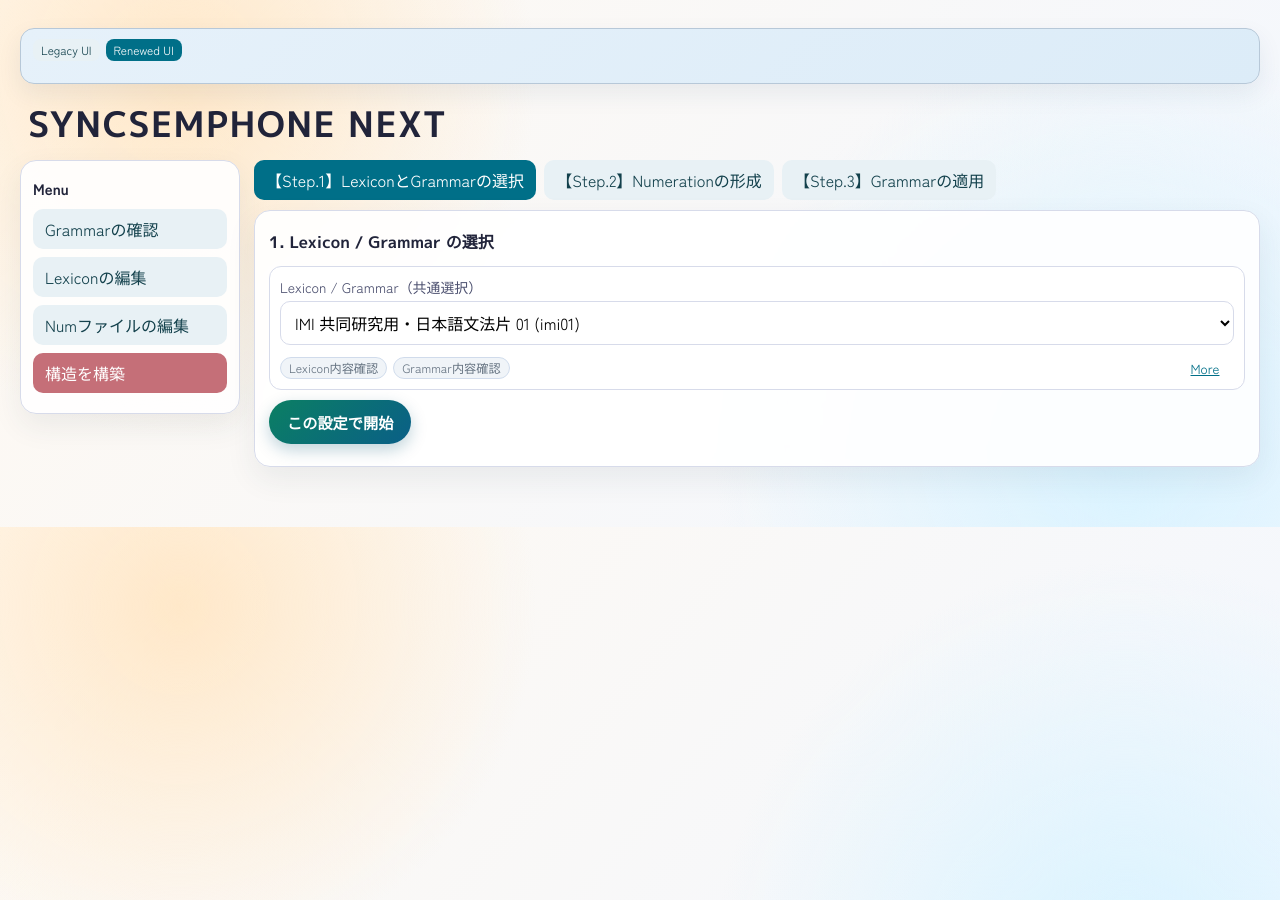
Scenario: App › switches Step1 numeration entry modes
Click the button "この設定で開始": (340, 422) top-left (269, 400), bottom-right (411, 444)
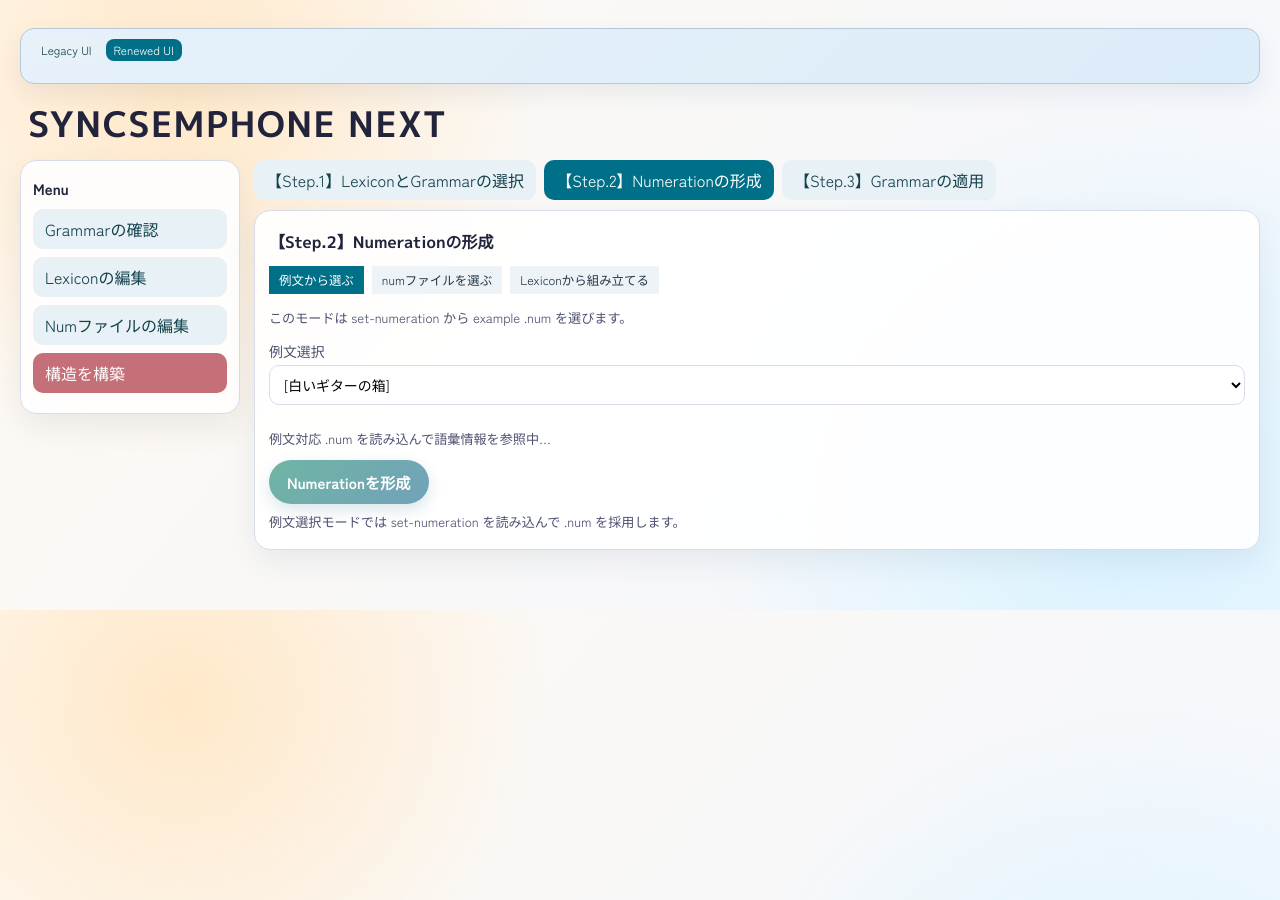
Click the button "numファイルを選ぶ": (437, 280) top-left (372, 266), bottom-right (502, 294)
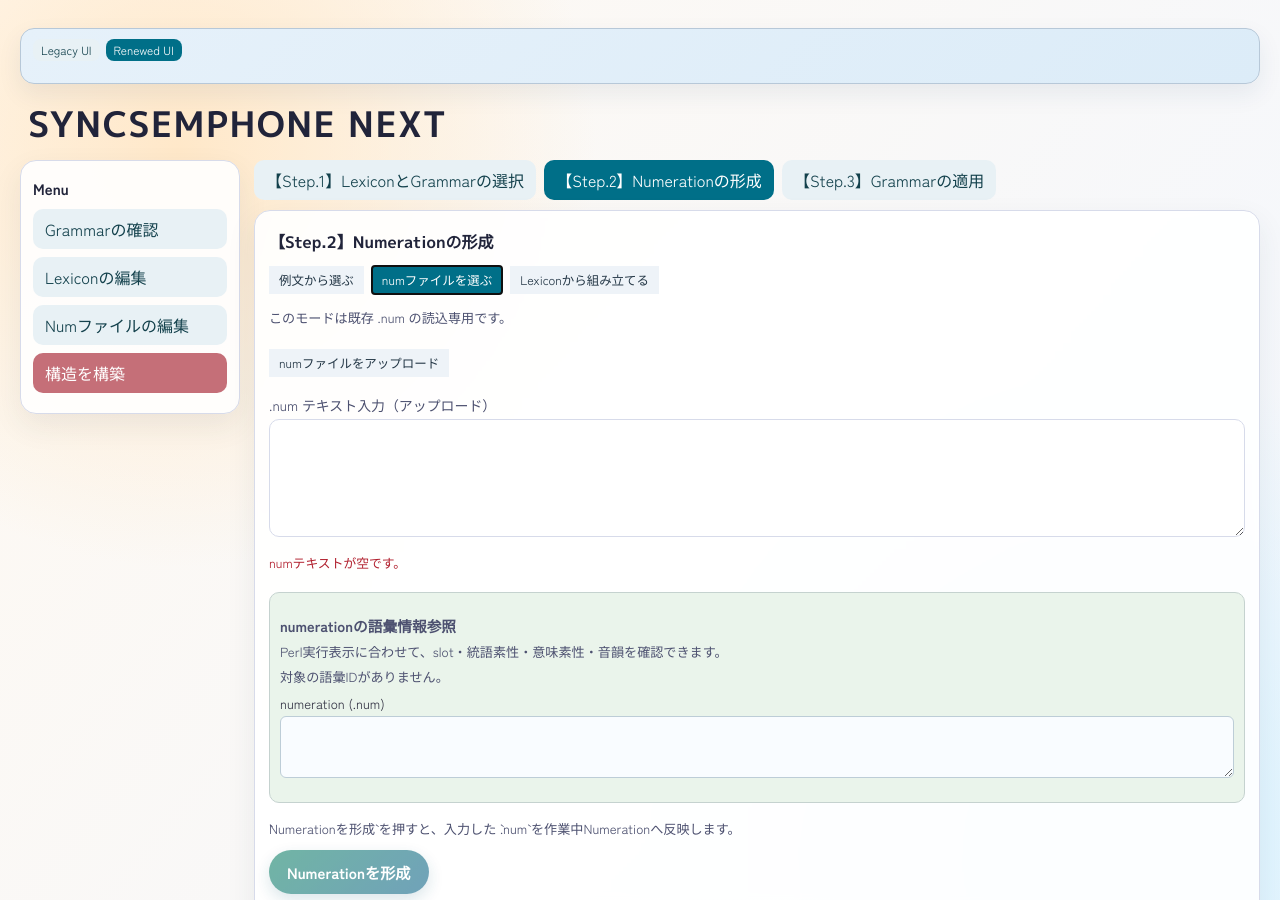
Expected: the text box named "Step1 Upload Numeration" is shown, top-left (269, 419), bottom-right (1245, 537)
Click the button "例文から選ぶ": (316, 280) top-left (269, 266), bottom-right (364, 294)
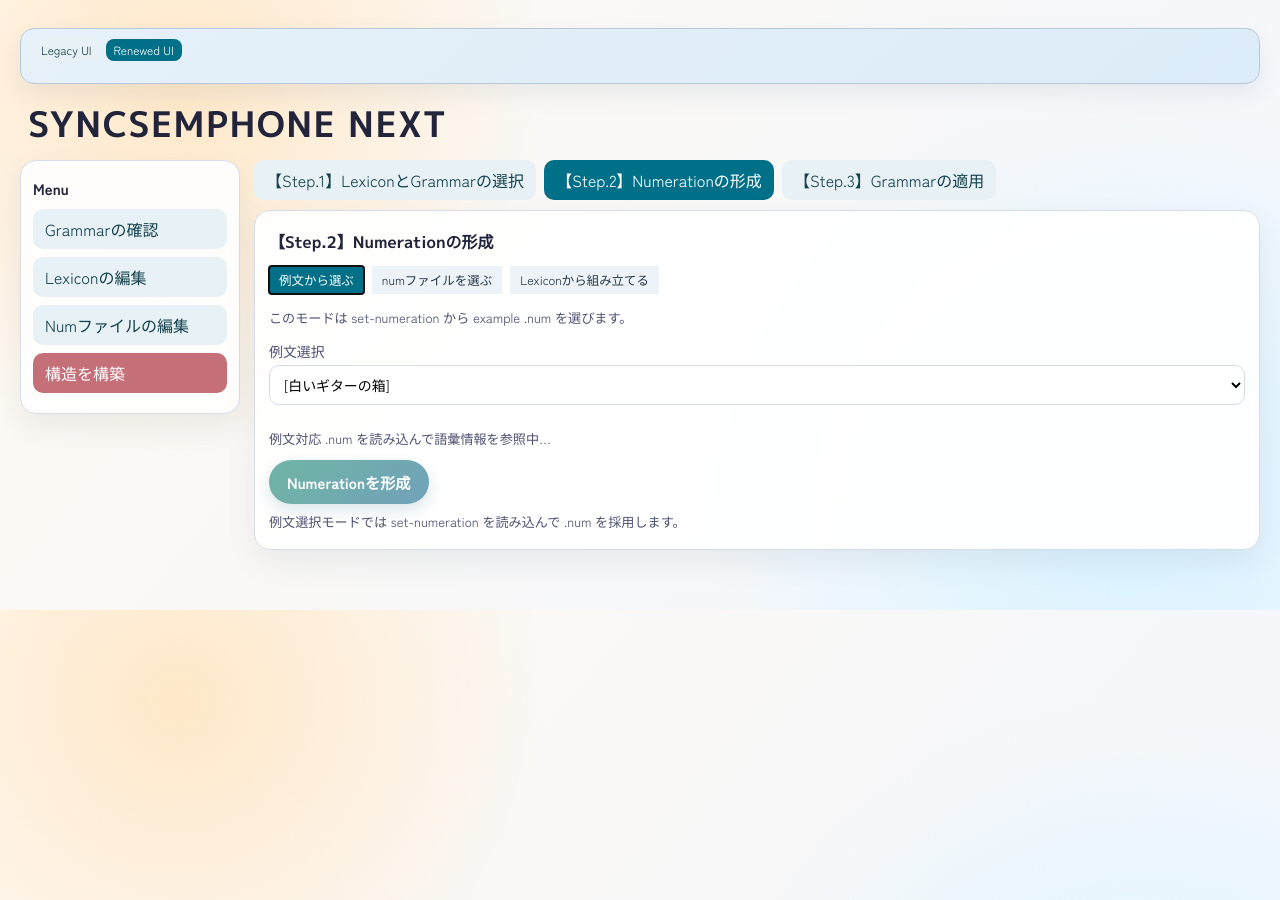
Expected: the dropdown named "Step1 Example Sentence" is shown, top-left (269, 365), bottom-right (1245, 405)
